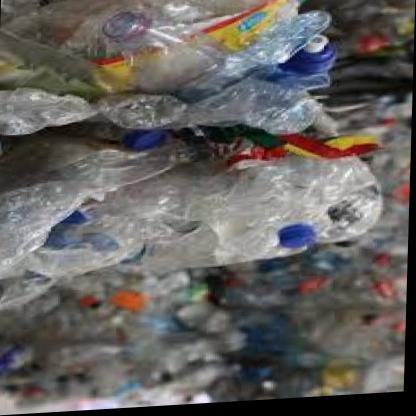Plastic: (92, 15, 262, 120), (235, 144, 340, 264), (195, 4, 338, 91)
